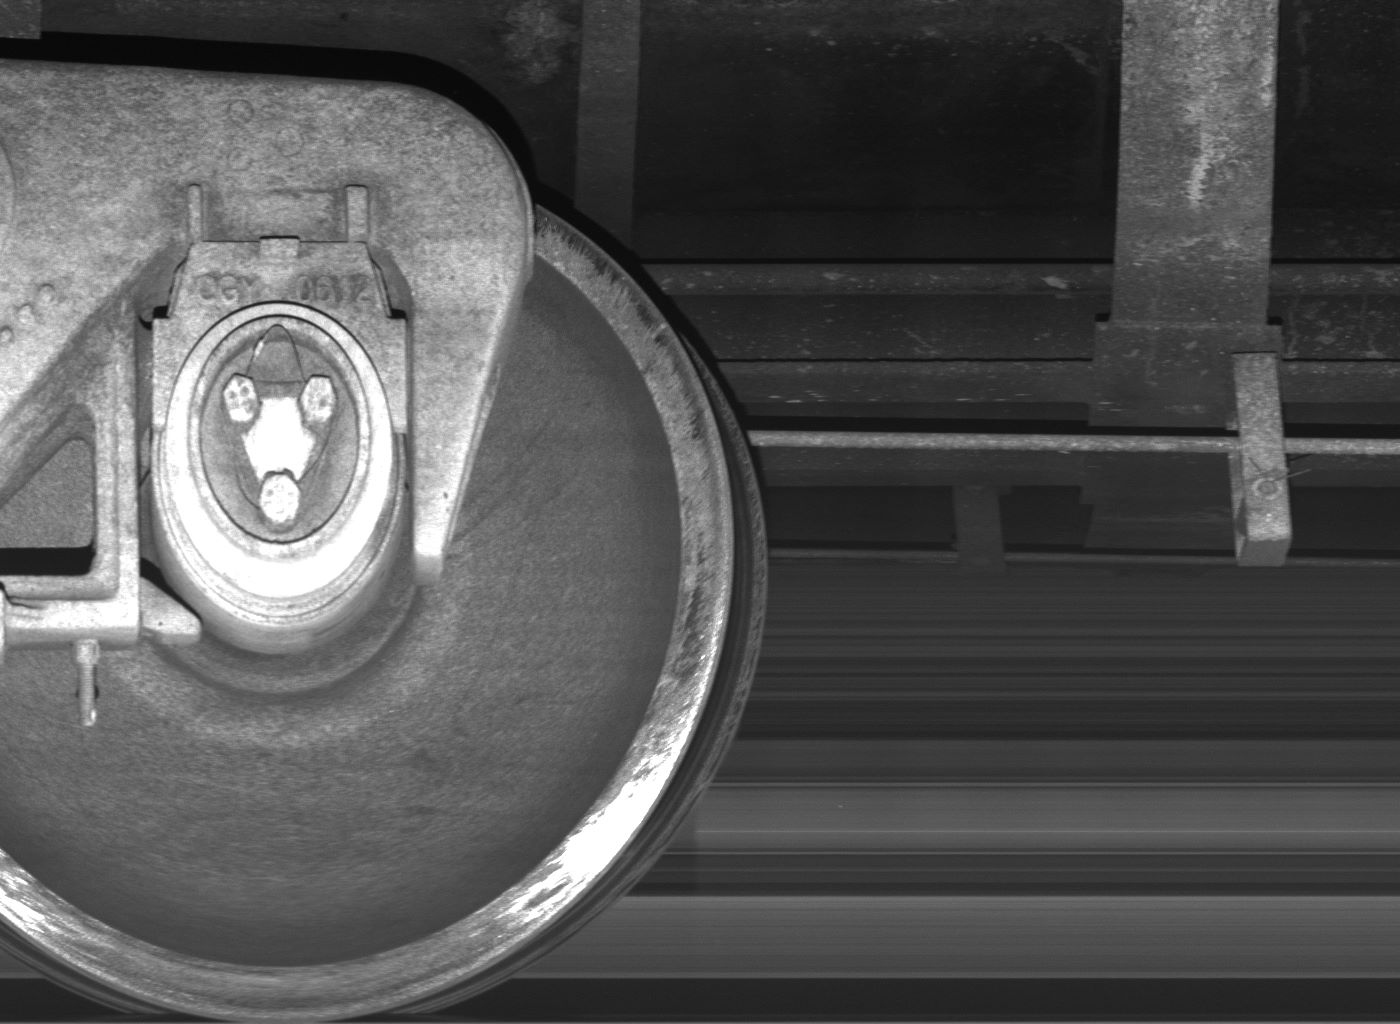normal: (1230, 352, 1292, 569)
